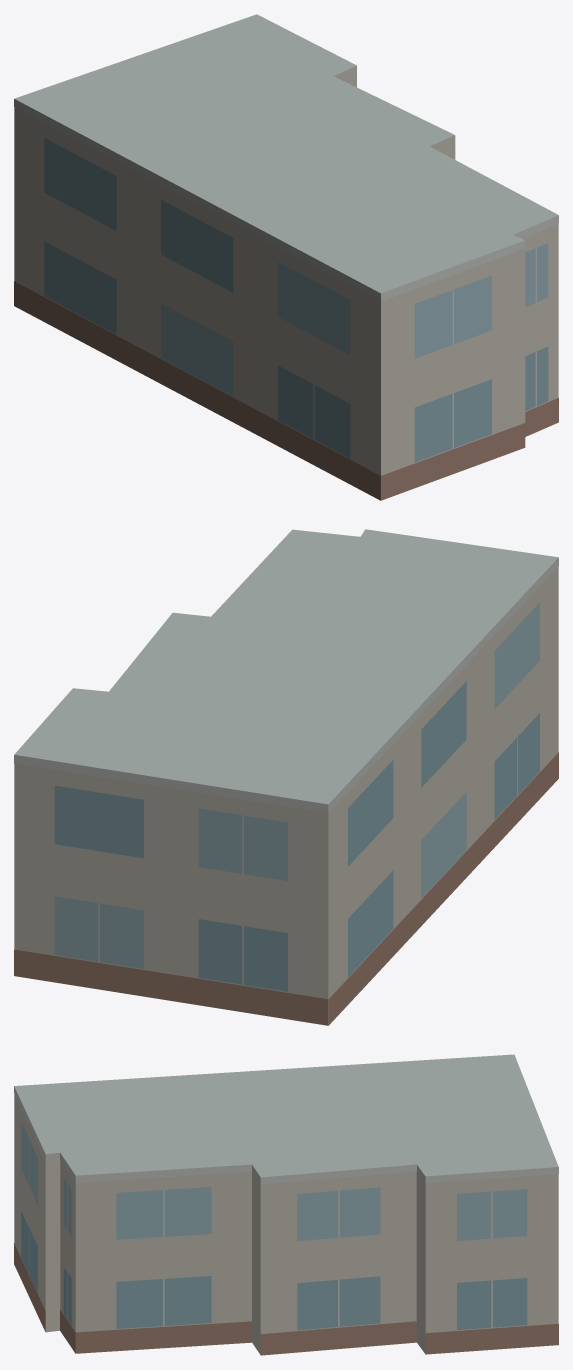
File: survey-upis-32963322.glb
The picture shows the model from 3 angles, top to bottom: view 1: azimuth 30°, elevation 25°; view 2: azimuth 150°, elevation 25°; view 3: azimuth 270°, elevation 25°; orthographic projection. The views are drawn at different scales.
Parts seen in each view (by area): view 1: survey-upis-32963322.tmp; view 2: survey-upis-32963322.tmp; view 3: survey-upis-32963322.tmp.
Part boxes in pixels (x1,y1,x2,y2): survey-upis-32963322.tmp: (14,14,558,500); survey-upis-32963322.tmp: (14,529,558,1025); survey-upis-32963322.tmp: (14,1054,558,1355).
Size of the model in its own units: 9.05 by 6.1 by 16.92.
